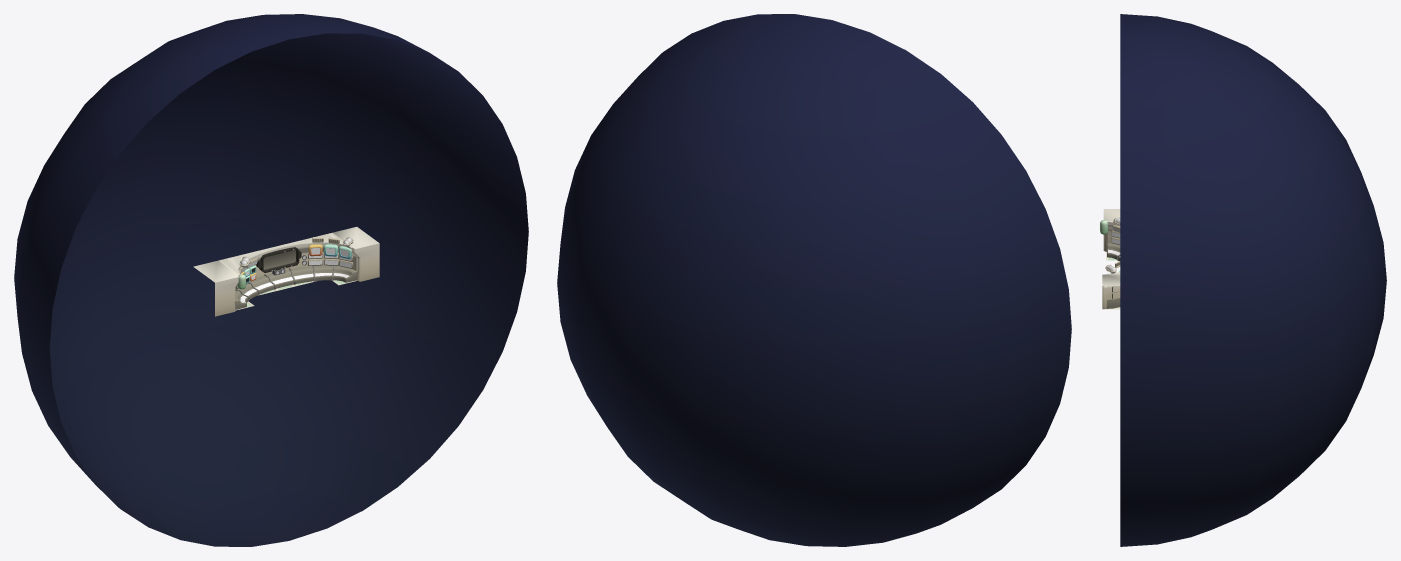
The model's file is ControlPannel.fbx.
3 renders of one model, left to right at view 1: azimuth 30°, elevation 25°; view 2: azimuth 150°, elevation 25°; view 3: azimuth 270°, elevation 25°, orthographic. The views are drawn at different scales.
Visible parts, largest first — view 1: pSphere2, polySurface1, Cube; view 2: pSphere2; view 3: pSphere2, polySurface1.
Boxes of the visible parts, box(x1,y1,x2,y2) form: pSphere2: box(14, 14, 528, 546); polySurface1: box(193, 227, 379, 316); Cube: box(259, 247, 299, 272); pSphere2: box(557, 14, 1071, 546); pSphere2: box(1120, 14, 1386, 546); polySurface1: box(1102, 209, 1120, 309).
Bounding box in the file's own units: 2850 × 2850 × 1533.
